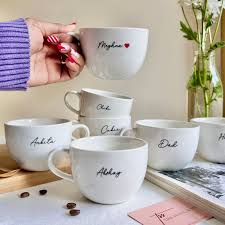mug: (47, 19, 166, 114), (33, 128, 158, 208)
